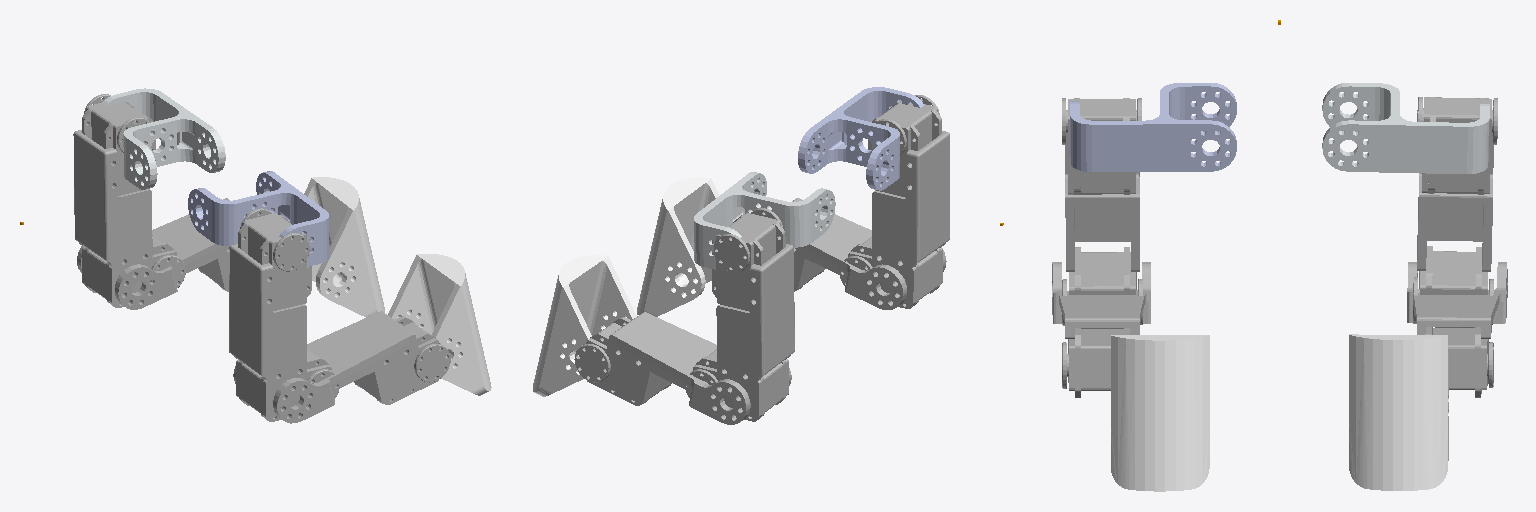
The robot description file, URDF, robot "xgo":
<?xml version="1.0" encoding="utf-8"?>
<!-- This URDF was automatically created by SolidWorks to URDF Exporter! Originally created by Stephen Brawner ([email redacted]) 
     Commit Version: 1.6.0-4-g7f85cfe  Build Version: 1.6.7995.38578
     For more information, please see http://wiki.ros.org/sw_urdf_exporter -->
<robot
  name="xgo">
  <link name="base">
    <visual>
      <origin rpy="0 0 0" xyz="0 0 0"/>
      <geometry>
        <box size="0.001 0.001 0.001"/>
      </geometry>
    </visual>
  </link>
  <joint name="floating_base" type="fixed">
    <origin rpy="0 0 0" xyz="0 0 0"/>
    <parent link="base"/>
    <child link="body"/>
  </joint>
  <link
    name="body">
    <inertial>
      <origin
        xyz="0 0 0"
        rpy="0 0 0" />
      <mass
        value="0.28377" />
      <inertia
        ixx="0.00012081"
        ixy="2.6e-7"
        ixz="-2.87e-6"
        iyy="0.00114744"
        iyz="1.5e-7"
        izz="0.00120568" />
    </inertial>
    <visual>
      <origin
        xyz="0 0 0"
        rpy="0 0 0" />
      <geometry>
        <mesh
          filename="../meshes/body.STL" />
      </geometry>
      <material
        name="">
        <color
          rgba="0.75294 0.75294 0.75294 1" />
      </material>
    </visual>
    <collision>
      <origin
        xyz="0 0 0"
        rpy="0 0 0" />
      <geometry>
        <mesh
          filename="../meshes/body.STL" />
      </geometry>
    </collision>
  </link>
  <link
    name="fl_hip">
    <inertial>
      <origin
        xyz="-0.014472 0.025089 0.0092733"
        rpy="0 0 0" />
      <mass
        value="0.0196" />
      <inertia
        ixx="5.89E-06"
        ixy="-5.7E-07"
        ixz="-2.6E-07"
        iyy="3.79E-06"
        iyz="-1.16E-06"
        izz="6.89E-06" />
    </inertial>
    <visual>
      <origin
        xyz="0 0 0"
        rpy="0 0 0" />
      <geometry>
        <mesh
          filename="../meshes/fl_hip.STL" />
      </geometry>
      <material
        name="">
        <color
          rgba="0.89804 0.91765 0.92941 1" />
      </material>
    </visual>
    <collision>
      <origin
        xyz="0 0 0"
        rpy="0 0 0" />
      <geometry>
        <mesh
          filename="../meshes/fl_hip.STL" />
      </geometry>
    </collision>
  </link>
  <joint
    name="fl_hip_joint"
    type="revolute">
    <origin
      xyz="0.093049 0.022297 -0.00077655"
      rpy="0 0 0" />
    <parent
      link="body" />
    <child
      link="fl_hip" />
    <axis
      xyz="1 0 0" />
    <limit
      lower="-0.8"
      upper="0.8"
      effort="0.45"
      velocity="10" />
  </joint>
  <link
    name="fl_thigh">
    <inertial>
      <origin
        xyz="-0.00135 -0.01796 -0.02975"
        rpy="0 0 0" />
      <mass
        value="0.06234296" />
      <inertia
        ixx="4.672E-05"
        ixy="-1E-7"
        ixz="1.1E-7"
        iyy="4.153E-05"
        iyz="0"
        izz="9.971E-06" />
    </inertial>
    <visual>
      <origin
        xyz="0 0 0"
        rpy="0 0 0" />
      <geometry>
        <mesh
          filename="../meshes/fl_thigh.STL" />
      </geometry>
      <material
        name="">
        <color
          rgba="0.75294 0.75294 0.75294 1" />
      </material>
    </visual>
    <collision>
      <origin
        xyz="0 0 0"
        rpy="0 0 0" />
      <geometry>
        <mesh
          filename="../meshes/fl_thigh.STL" />
      </geometry>
    </collision>
  </link>
  <joint
    name="fl_thigh_joint"
    type="revolute">
    <origin
      xyz="-0.018825 0.049813 0"
      rpy="0 0 0" />
    <parent
      link="fl_hip" />
    <child
      link="fl_thigh" />
    <axis
      xyz="0 1 0" />
    <limit
      lower="-2"
      upper="2"
      effort="0.45"
      velocity="10" />
  </joint>
  <link
    name="fl_calf">
    <inertial>
      <origin
        xyz="-0.016617 -0.018825 -0.026917"
        rpy="0 0 0" />
      <mass
        value="0.02225" />
      <inertia
        ixx="1.399E-05"
        ixy="0"
        ixz="-1.09E-06"
        iyy="1.366E-05"
        iyz="0"
        izz="1.5E-06" />
    </inertial>
    <visual>
      <origin
        xyz="0 0 0"
        rpy="0 0 0" />
      <geometry>
        <mesh
          filename="../meshes/fl_calf.STL" />
      </geometry>
      <material
        name="">
        <color
          rgba="0.75294 0.75294 0.75294 1" />
      </material>
    </visual>
    <collision>
      <origin
        xyz="0 0 0"
        rpy="0 0 0" />
      <geometry>
        <mesh
          filename="../meshes/fl_calf.STL" />
      </geometry>
    </collision>
  </link>
  <joint
    name="fl_calf_joint"
    type="revolute">
    <origin
      xyz="0 0 -0.0595"
      rpy="0 0 0" />
    <parent
      link="fl_thigh" />
    <child
      link="fl_calf" />
    <axis
      xyz="0 1 0" />
    <limit
      lower="-2.69"
      upper="-0.9"
      effort="0.45"
      velocity="10" />
  </joint>
  <link
    name="fl_foot">
    <inertial>
      <origin
        xyz="-0.00092954 0 -0.0022442"
        rpy="0 0 0" />
      <mass
        value="0.00160727" />
      <inertia
        ixx="5E-08"
        ixy="0"
        ixz="1E-08"
        iyy="8E-08"
        iyz="0"
        izz="7E-08" />
    </inertial>
    <visual>
      <origin
        xyz="0 0 0"
        rpy="0 0 0" />
      <geometry>
        <mesh
          filename="../meshes/fl_foot.STL" />
      </geometry>
      <material
        name="">
        <color
          rgba="1 1 1 1" />
      </material>
    </visual>
    <collision>
      <origin
        xyz="0 0 0"
        rpy="0 0 0" />
      <geometry>
        <mesh
          filename="../meshes/fl_foot.STL" />
      </geometry>
    </collision>
  </link>
  <joint
    name="fl_foot_joint"
    type="fixed" dont_collapse="true">
    <origin
      xyz="-0.022663 -0.018825 -0.0715"
      rpy="0 0 0" />
    <parent
      link="fl_calf" />
    <child
      link="fl_foot" />
    <axis
      xyz="0 0 0" />
  </joint>
  <link
    name="fr_hip">
    <inertial>
      <origin
        xyz="-0.014472 -0.025087 0.0092733"
        rpy="0 0 0" />
      <mass
        value="0.0196" />
      <inertia
        ixx="5.89E-06"
        ixy="5.7E-07"
        ixz="-2.6E-07"
        iyy="3.79E-06"
        iyz="1.16E-06"
        izz="6.89E-06" />
    </inertial>
    <visual>
      <origin
        xyz="0 0 0"
        rpy="0 0 0" />
      <geometry>
        <mesh
          filename="../meshes/fr_hip.STL" />
      </geometry>
      <material
        name="">
        <color
          rgba="0.79216 0.81961 0.93333 1" />
      </material>
    </visual>
    <collision>
      <origin
        xyz="0 0 0"
        rpy="0 0 0" />
      <geometry>
        <mesh
          filename="../meshes/fr_hip.STL" />
      </geometry>
    </collision>
  </link>
  <joint
    name="fr_hip_joint"
    type="revolute">
    <origin
      xyz="0.093049 -0.022303 -0.00077372"
      rpy="0 0 0" />
    <parent
      link="body" />
    <child
      link="fr_hip" />
    <axis
      xyz="1 0 0" />
    <limit
      lower="-0.8"
      upper="0.8"
      effort="0.45"
      velocity="10" />
  </joint>
  <link
    name="fr_thigh">
    <inertial>
      <origin
        xyz="-0.0044234 0.01867 -0.02975"
        rpy="0 0 0" />
      <mass
        value="0.06234296" />
      <inertia
        ixx="4.672E-05"
        ixy="1E-7"
        ixz="1.1E-7"
        iyy="4.153E-05"
        iyz="0"
        izz="9.971E-06" />
    </inertial>
    <visual>
      <origin
        xyz="0 0 0"
        rpy="0 0 0" />
      <geometry>
        <mesh
          filename="../meshes/fr_thigh.STL" />
      </geometry>
      <material
        name="">
        <color
          rgba="0.75294 0.75294 0.75294 1" />
      </material>
    </visual>
    <collision>
      <origin
        xyz="0 0 0"
        rpy="0 0 0" />
      <geometry>
        <mesh
          filename="../meshes/fr_thigh.STL" />
      </geometry>
    </collision>
  </link>
  <joint
    name="fr_thigh_joint"
    type="revolute">
    <origin
      xyz="-0.018825 -0.049811 0"
      rpy="0 0 0" />
    <parent
      link="fr_hip" />
    <child
      link="fr_thigh" />
    <axis
      xyz="0 1 0" />
    <limit
      lower="-2"
      upper="2"
      effort="0.45"
      velocity="10" />
  </joint>
  <link
    name="fr_calf">
    <inertial>
      <origin
        xyz="-0.016617 0.018825 -0.026917"
        rpy="0 0 0" />
      <mass
        value="0.02225" />
      <inertia
        ixx="1.399E-05"
        ixy="0"
        ixz="-1.09E-06"
        iyy="1.366E-05"
        iyz="0"
        izz="1.5E-06" />
    </inertial>
    <visual>
      <origin
        xyz="0 0 0"
        rpy="0 0 0" />
      <geometry>
        <mesh
          filename="../meshes/fr_calf.STL" />
      </geometry>
      <material
        name="">
        <color
          rgba="0.75294 0.75294 0.75294 1" />
      </material>
    </visual>
    <collision>
      <origin
        xyz="0 0 0"
        rpy="0 0 0" />
      <geometry>
        <mesh
          filename="../meshes/fr_calf.STL" />
      </geometry>
    </collision>
  </link>
  <joint
    name="fr_calf_joint"
    type="revolute">
    <origin
      xyz="0.00019993 0 -0.0595"
      rpy="0 0 0" />
    <parent
      link="fr_thigh" />
    <child
      link="fr_calf" />
    <axis
      xyz="0 1 0" />
    <limit
      lower="-2.69"
      upper="-0.9"
      effort="0.45"
      velocity="10" />
  </joint>
  <link
    name="fr_foot">
    <inertial>
      <origin
        xyz="-0.000929610847488466 -4.50096803022992E-08 -0.00224418223925019"
        rpy="0 0 0" />
      <mass
        value="0.00160727" />
      <inertia
        ixx="5E-08"
        ixy="0"
        ixz="1E-08"
        iyy="8E-08"
        iyz="0"
        izz="7E-08" />
    </inertial>
    <visual>
      <origin
        xyz="0 0 0"
        rpy="0 0 0" />
      <geometry>
        <mesh
          filename="../meshes/fr_foot.STL" />
      </geometry>
      <material
        name="">
        <color
          rgba="1 1 1 1" />
      </material>
    </visual>
    <collision>
      <origin
        xyz="0 0 0"
        rpy="0 0 0" />
      <geometry>
        <mesh
          filename="../meshes/fr_foot.STL" />
      </geometry>
    </collision>
  </link>
  <joint
    name="fr_foot_joint"
    type="fixed" dont_collapse="true">
    <origin
      xyz="-0.022663 0.018825 -0.0715"
      rpy="0 0 0" />
    <parent
      link="fr_calf" />
    <child
      link="fr_foot" />
    <axis
      xyz="0 0 0" />
  </joint>
  <link
    name="bl_hip">
    <inertial>
      <origin
        xyz="-0.0139719978465255 0.0250874114611194 0.00927328906936255"
        rpy="0 0 0" />
      <mass
        value="0.0196" />
      <inertia
        ixx="5.89E-06"
        ixy="-5.7E-07"
        ixz="-2.6E-07"
        iyy="3.79E-06"
        iyz="-1.16E-06"
        izz="6.89E-06" />
    </inertial>
    <visual>
      <origin
        xyz="0 0 0"
        rpy="0 0 0" />
      <geometry>
        <mesh
          filename="../meshes/bl_hip.STL" />
      </geometry>
      <material
        name="">
        <color
          rgba="0.898039215686275 0.917647058823529 0.929411764705882 1" />
      </material>
    </visual>
    <collision>
      <origin
        xyz="0 0 0"
        rpy="0 0 0" />
      <geometry>
        <mesh
          filename="../meshes/bl_hip.STL" />
      </geometry>
    </collision>
  </link>
  <joint
    name="bl_hip_joint"
    type="revolute">
    <origin
      xyz="-0.056701 0.022297 -0.00077655"
      rpy="0 0 0" />
    <parent
      link="body" />
    <child
      link="bl_hip" />
    <axis
      xyz="1 0 0" />
    <limit
      lower="-0.8"
      upper="0.8"
      effort="0.45"
      velocity="10" />
  </joint>
  <link
    name="bl_thigh">
    <inertial>
      <origin
        xyz="-0.0044577 -0.01867 -0.02975"
        rpy="0 0 0" />
      <mass
        value="0.06234296" />
      <inertia
        ixx="4.672E-05"
        ixy="-1E-7"
        ixz="1.1E-7"
        iyy="4.153E-05"
        iyz="0"
        izz="9.971E-06" />
    </inertial>
    <visual>
      <origin
        xyz="0 0 0"
        rpy="0 0 0" />
      <geometry>
        <mesh
          filename="../meshes/bl_thigh.STL" />
      </geometry>
      <material
        name="">
        <color
          rgba="0.75294 0.75294 0.75294 1" />
      </material>
    </visual>
    <collision>
      <origin
        xyz="0 0 0"
        rpy="0 0 0" />
      <geometry>
        <mesh
          filename="../meshes/bl_thigh.STL" />
      </geometry>
    </collision>
  </link>
  <joint
    name="bl_thigh_joint"
    type="revolute">
    <origin
      xyz="-0.018325 0.049811 0"
      rpy="0 0 0" />
    <parent
      link="bl_hip" />
    <child
      link="bl_thigh" />
    <axis
      xyz="0 1 0" />
    <limit
      lower="-2"
      upper="2"
      effort="0.45"
      velocity="10" />
  </joint>
  <link
    name="bl_calf">
    <inertial>
      <origin
        xyz="-0.0166167777717992 -0.0188249730950225 -0.026917070061231"
        rpy="0 0 0" />
      <mass
        value="0.02225" />
      <inertia
        ixx="1.399E-05"
        ixy="0"
        ixz="-1.09E-06"
        iyy="1.366E-05"
        iyz="0"
        izz="1.5E-06" />
    </inertial>
    <visual>
      <origin
        xyz="0 0 0"
        rpy="0 0 0" />
      <geometry>
        <mesh
          filename="../meshes/bl_calf.STL" />
      </geometry>
      <material
        name="">
        <color
          rgba="0.752941176470588 0.752941176470588 0.752941176470588 1" />
      </material>
    </visual>
    <collision>
      <origin
        xyz="0 0 0"
        rpy="0 0 0" />
      <geometry>
        <mesh
          filename="../meshes/bl_calf.STL" />
      </geometry>
    </collision>
  </link>
  <joint
    name="bl_calf_joint"
    type="revolute">
    <origin
      xyz="0 0 -0.0595"
      rpy="0 0 0" />
    <parent
      link="bl_thigh" />
    <child
      link="bl_calf" />
    <axis
      xyz="0 1 0" />
    <limit
      lower="-2.69"
      upper="-0.9"
      effort="0.45"
      velocity="10" />
  </joint>
  <link
    name="bl_foot">
    <inertial>
      <origin
        xyz="-0.00092961 -4.501E-08 -0.0022442"
        rpy="0 0 0" />
      <mass
        value="0.00160727" />
      <inertia
        ixx="5E-08"
        ixy="0"
        ixz="1E-08"
        iyy="8E-08"
        iyz="0"
        izz="7E-08" />
    </inertial>
    <visual>
      <origin
        xyz="0 0 0"
        rpy="0 0 0" />
      <geometry>
        <mesh
          filename="../meshes/bl_foot.STL" />
      </geometry>
      <material
        name="">
        <color
          rgba="1 1 1 1" />
      </material>
    </visual>
    <collision>
      <origin
        xyz="0 0 0"
        rpy="0 0 0" />
      <geometry>
        <mesh
          filename="../meshes/bl_foot.STL" />
      </geometry>
    </collision>
  </link>
  <joint
    name="bl_foot_joint"
    type="fixed" dont_collapse="true">
    <origin
      xyz="-0.022663 -0.018825 -0.0715"
      rpy="0 0 0" />
    <parent
      link="bl_calf" />
    <child
      link="bl_foot" />
    <axis
      xyz="0 0 0" />
  </joint>
  <link
    name="br_hip">
    <inertial>
      <origin
        xyz="-0.0139720126736417 -0.0250874024827749 0.00927327962848533"
        rpy="0 0 0" />
      <mass
        value="0.0196" />
      <inertia
        ixx="5.89E-06"
        ixy="5.7E-07"
        ixz="-2.6E-07"
        iyy="3.79E-06"
        iyz="1.16E-06"
        izz="6.89E-06" />
    </inertial>
    <visual>
      <origin
        xyz="0 0 0"
        rpy="0 0 0" />
      <geometry>
        <mesh
          filename="../meshes/br_hip.STL" />
      </geometry>
      <material
        name="">
        <color
          rgba="0.792156862745098 0.819607843137255 0.933333333333333 1" />
      </material>
    </visual>
    <collision>
      <origin
        xyz="0 0 0"
        rpy="0 0 0" />
      <geometry>
        <mesh
          filename="../meshes/br_hip.STL" />
      </geometry>
    </collision>
  </link>
  <joint
    name="br_hip_joint"
    type="revolute">
    <origin
      xyz="-0.056701 -0.022303 -0.00077372"
      rpy="0 0 0" />
    <parent
      link="body" />
    <child
      link="br_hip" />
    <axis
      xyz="1 0 0" />
    <limit
      lower="-0.8"
      upper="0.8"
      effort="0.45"
      velocity="10" />
  </joint>
  <link
    name="br_thigh">
    <inertial>
      <origin
        xyz="-0.0044234 0.01867 -0.02975"
        rpy="0 0 0" />
      <mass
        value="0.06234296" />
      <inertia
        ixx="4.672E-05"
        ixy="1E-7"
        ixz="1.1E-7"
        iyy="4.153E-05"
        iyz="0"
        izz="9.971E-06" />
    </inertial>
    <visual>
      <origin
        xyz="0 0 0"
        rpy="0 0 0" />
      <geometry>
        <mesh
          filename="../meshes/br_thigh.STL" />
      </geometry>
      <material
        name="">
        <color
          rgba="0.75294 0.75294 0.75294 1" />
      </material>
    </visual>
    <collision>
      <origin
        xyz="0 0 0"
        rpy="0 0 0" />
      <geometry>
        <mesh
          filename="../meshes/br_thigh.STL" />
      </geometry>
    </collision>
  </link>
  <joint
    name="br_thigh_joint"
    type="revolute">
    <origin
      xyz="-0.018325 -0.049811 0"
      rpy="0 0 0" />
    <parent
      link="br_hip" />
    <child
      link="br_thigh" />
    <axis
      xyz="0 1 0" />
    <limit
      lower="-2"
      upper="2"
      effort="0.45"
      velocity="10" />
  </joint>
  <link
    name="br_calf">
    <inertial>
      <origin
        xyz="-0.016617 0.018825 -0.026917"
        rpy="0 0 0" />
      <mass
        value="0.02225" />
      <inertia
        ixx="1.399E-05"
        ixy="0"
        ixz="-1.09E-06"
        iyy="1.366E-05"
        iyz="0"
        izz="1.5E-06" />
    </inertial>
    <visual>
      <origin
        xyz="0 0 0"
        rpy="0 0 0" />
      <geometry>
        <mesh
          filename="../meshes/br_calf.STL" />
      </geometry>
      <material
        name="">
        <color
          rgba="0.75294 0.75294 0.75294 1" />
      </material>
    </visual>
    <collision>
      <origin
        xyz="0 0 0"
        rpy="0 0 0" />
      <geometry>
        <mesh
          filename="../meshes/br_calf.STL" />
      </geometry>
    </collision>
  </link>
  <joint
    name="br_calf_joint"
    type="revolute">
    <origin
      xyz="0.00019993 0 -0.0595"
      rpy="0 0 0" />
    <parent
      link="br_thigh" />
    <child
      link="br_calf" />
    <axis
      xyz="0 1 0" />
    <limit
      lower="-2.69"
      upper="-0.9"
      effort="0.45"
      velocity="10" />
  </joint>
  <link
    name="br_foot">
    <inertial>
      <origin
        xyz="-0.00092961 -4.501E-08 -0.0022442"
        rpy="0 0 0" />
      <mass
        value="0.00160727" />
      <inertia
        ixx="5E-08"
        ixy="0"
        ixz="1E-08"
        iyy="8E-08"
        iyz="0"
        izz="7E-08" />
    </inertial>
    <visual>
      <origin
        xyz="0 0 0"
        rpy="0 0 0" />
      <geometry>
        <mesh
          filename="../meshes/br_foot.STL" />
      </geometry>
      <material
        name="">
        <color
          rgba="1 1 1 1" />
      </material>
    </visual>
    <collision>
      <origin
        xyz="0 0 0"
        rpy="0 0 0" />
      <geometry>
        <mesh
          filename="../meshes/br_foot.STL" />
      </geometry>
    </collision>
  </link>
  <joint
    name="br_foot_joint"
    type="fixed" dont_collapse="true">
    <origin
      xyz="-0.022663 0.018825 -0.0715"
      rpy="0 0 0" />
    <parent
      link="br_calf" />
    <child
      link="br_foot" />
    <axis
      xyz="0 0 0" />
  </joint>
</robot>

<!-- 

  <link
    name="arm_thigh">
    <inertial>
      <origin
        xyz="-0.02975 0.01867 -0.0044577"
        rpy="0 0 0" />
      <mass
        value="0.018812" />
      <inertia
        ixx="9.71E-06"
        ixy="0"
        ixz="1.1E-7"
        iyy="4.153E-05"
        iyz="1E-7"
        izz="4.672E-05" />
    </inertial>
    <visual>
      <origin
        xyz="0 0 0"
        rpy="0 0 0" />
      <geometry>
        <mesh
          filename="../meshes/arm_thigh.STL" />
      </geometry>
      <material
        name="">
        <color
          rgba="0.75294 0.75294 0.75294 1" />
      </material>
    </visual>
    <collision>
      <origin
        xyz="0 0 0"
        rpy="0 0 0" />
      <geometry>
        <mesh
          filename="../meshes/arm_thigh.STL" />
      </geometry>
    </collision>
  </link>
  <joint
    name="arm_thigh_joint"
    type="fixed" dont_collapse="true">
    <origin
      xyz="0.080718 -0.018358 0.037252"
      rpy="0 0 0" />
    <parent
      link="body" />
    <child
      link="arm_thigh" />
  </joint>
  <link
    name="arm_calf">
    <inertial>
      <origin
        xyz="0.02333 0.018563 0.017123"
        rpy="0 0 0" />
      <mass
        value="0.017297" />
      <inertia
        ixx="3.72E-06"
        ixy="4E-08"
        ixz="-3.38E-06"
        iyy="2.722E-05"
        iyz="-1E-08"
        izz="2.638E-05" />
    </inertial>
    <visual>
      <origin
        xyz="0 0 0"
        rpy="0 0 0" />
      <geometry>
        <mesh
          filename="../meshes/arm_calf.STL" />
      </geometry>
      <material
        name="">
        <color
          rgba="0.75294 0.75294 0.75294 1" />
      </material>
    </visual>
    <collision>
      <origin
        xyz="0 0 0"
        rpy="0 0 0" />
      <geometry>
        <mesh
          filename="../meshes/arm_calf.STL" />
      </geometry>
    </collision>
  </link>
  <joint
    name="arm_calf_joint"
    type="fixed" dont_collapse="true">
    <origin
      xyz="-0.0595 0 0"
      rpy="0 0 0" />
    <parent
      link="arm_thigh" />
    <child
      link="arm_calf" />
  </joint>
  <link
    name="hand_right">
    <inertial>
      <origin
        xyz="0.011578 -0.0072849 -0.0068499"
        rpy="0 0 0" />
      <mass
        value="0.0010815" />
      <inertia
        ixx="1.5564E-07"
        ixy="6.1813E-08"
        ixz="4.8265E-08"
        iyy="2.117E-07"
        iyz="-3.5622E-08"
        izz="2.476E-07" />
    </inertial>
    <visual>
      <origin
        xyz="0 0 0"
        rpy="0 0 0" />
      <geometry>
        <mesh
          filename="../meshes/hand_right.STL" />
      </geometry>
      <material
        name="">
        <color
          rgba="1 1 1 1" />
      </material>
    </visual>
    <collision>
      <origin
        xyz="0 0 0"
        rpy="0 0 0" />
      <geometry>
        <mesh
          filename="../meshes/hand_right.STL" />
      </geometry>
    </collision>
  </link>
  <joint
    name="hand_right_joint"
    type="fixed" dont_collapse="true">
    <origin
      xyz="0.075852 0.022675 0.029321"
      rpy="0 0 0" />
    <parent
      link="arm_calf" />
    <child
      link="hand_right" />
  </joint>
  <link
    name="hand_left">
    <inertial>
      <origin
        xyz="0.011578 0.0072849 0.0068499"
        rpy="0 0 0" />
      <mass
        value="0.0010815" />
      <inertia
        ixx="1.5564E-07"
        ixy="-6.1813E-08"
        ixz="-4.8265E-08"
        iyy="2.117E-07"
        iyz="-3.5622E-08"
        izz="2.476E-07" />
    </inertial>
    <visual>
      <origin
        xyz="0 0 0"
        rpy="0 0 0" />
      <geometry>
        <mesh
          filename="../meshes/hand_left.STL" />
      </geometry>
      <material
        name="">
        <color
          rgba="1 1 1 1" />
      </material>
    </visual>
    <collision>
      <origin
        xyz="0 0 0"
        rpy="0 0 0" />
      <geometry>
        <mesh
          filename="../meshes/hand_left.STL" />
      </geometry>
    </collision>
  </link>
  <joint
    name="hand_left_joint"
    type="fixed" dont_collapse="true">
    <origin
      xyz="0.075852 0.014475 0.0074211"
      rpy="0 0 0" />
    <parent
      link="arm_calf" />
    <child
      link="hand_left" />
    <mimic joint="hand_right_joint"/>
  </joint> -->

--- What the picture shows (computed from the rendered views, not written in the file) ---
3 views of the same robot in one strip: view 1: azimuth 30°, elevation 25°; view 2: azimuth 150°, elevation 25°; view 3: azimuth 270°, elevation 25° (orthographic).
Model xgo with 18 links and 17 joints (12 revolute, 5 fixed), rooted at base, posed joints at zero except 4 at the middle of their limits (fl_calf_joint = -1.79, fr_calf_joint = -1.79, bl_calf_joint = -1.79, br_calf_joint = -1.79).
Visible links, largest first — view 1: fr_thigh, fl_thigh, fr_calf, fr_foot, fl_hip, fl_foot, fr_hip, fl_calf; view 2: fl_thigh, fr_thigh, fl_calf, fl_foot, fr_hip, fr_foot, fl_hip, fr_calf; view 3: fl_foot, fr_foot, fl_hip, fr_hip, fl_thigh, fr_thigh, fr_calf, fl_calf.
Link boxes in pixels (box(x1,y1,x2,y2)): fr_thigh: box(229, 208, 339, 421); fl_thigh: box(73, 94, 185, 307); fr_calf: box(233, 311, 450, 423); fr_foot: box(388, 254, 491, 395); fl_hip: box(101, 88, 225, 189); fl_foot: box(304, 177, 384, 317); fr_hip: box(188, 171, 328, 266); fl_calf: box(77, 198, 258, 309); fl_thigh: box(685, 208, 794, 421); fr_thigh: box(839, 95, 949, 308); fl_calf: box(574, 312, 791, 424); fl_foot: box(533, 255, 636, 396); fr_hip: box(798, 87, 923, 190); fr_foot: box(637, 177, 719, 316); fl_hip: box(694, 172, 835, 269); fr_calf: box(792, 198, 946, 309); fl_foot: box(1349, 334, 1448, 490); fr_foot: box(1111, 335, 1209, 491); fl_hip: box(1322, 83, 1489, 173); fr_hip: box(1070, 83, 1236, 171); fl_thigh: box(1413, 97, 1497, 327); fr_thigh: box(1062, 98, 1142, 328); fr_calf: box(1052, 262, 1150, 397); fl_calf: box(1407, 262, 1507, 397).
Size in the robot's own frame: 0.1746 by 0.1475 by 0.0961 metres.
8 mesh visuals loaded from 17 distinct referenced files (8 binary STL); not drawn: 9 (reference not matched to a file when rendering).
